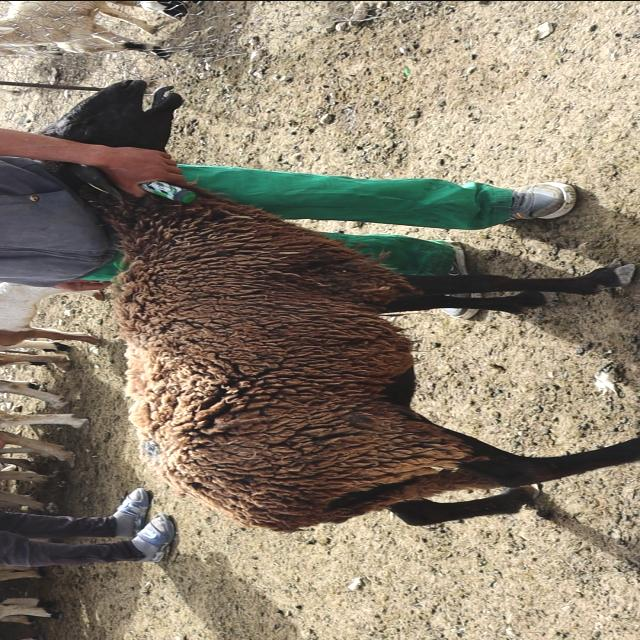Score_1: (45, 161, 639, 532)
